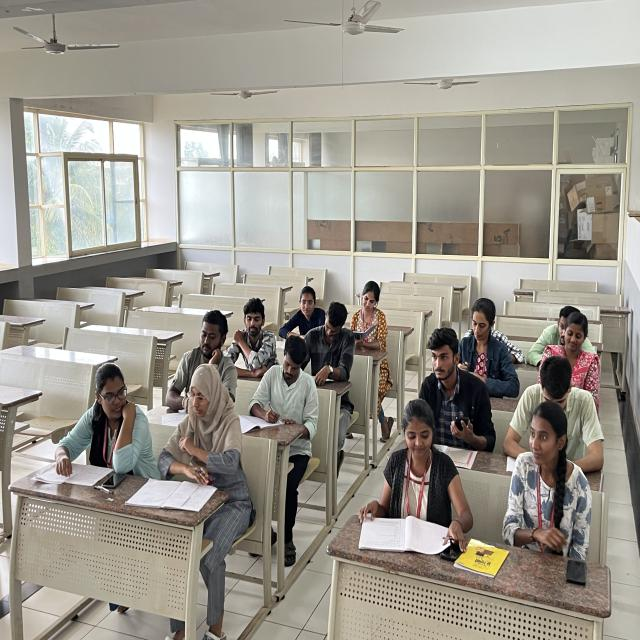Reading: (342, 396, 468, 534), (345, 268, 410, 372), (303, 306, 363, 384)
Writing: (168, 360, 237, 507), (250, 335, 318, 443)
